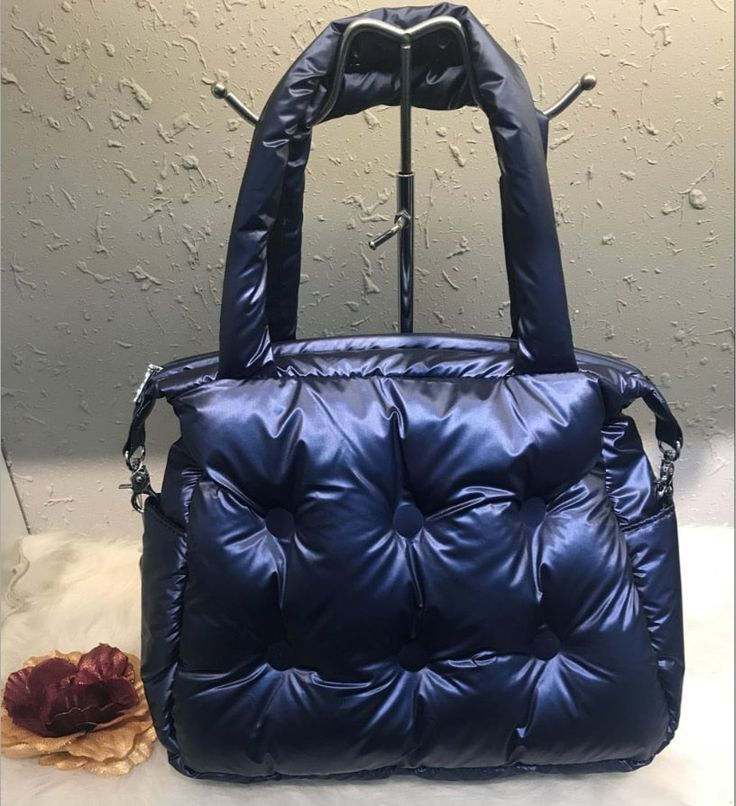nylon: (125, 3, 687, 784)
